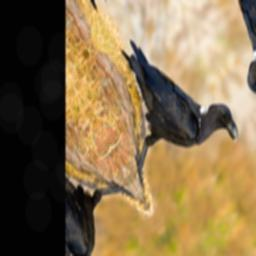Crow: (82, 3, 245, 221)
